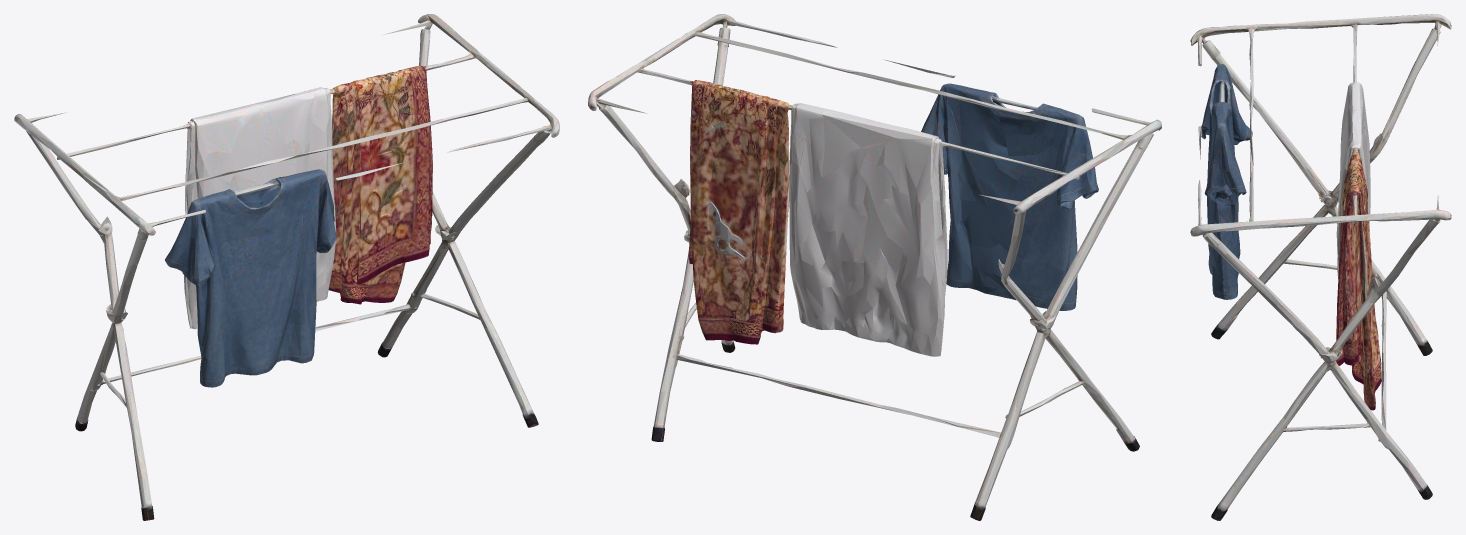
The model's file is w4clothesrack.glb.
The picture shows the model from 3 angles, left to right: view 1: azimuth 30°, elevation 25°; view 2: azimuth 150°, elevation 25°; view 3: azimuth 270°, elevation 25°; orthographic projection. The views are drawn at different scales.
Parts seen in each view (by area): view 1: output_unwrapped; view 2: output_unwrapped; view 3: output_unwrapped.
Boxes of the visible parts, x1=… form: output_unwrapped: x1=14, y1=14, x2=559, y2=520; output_unwrapped: x1=588, y1=14, x2=1161, y2=520; output_unwrapped: x1=1190, y1=14, x2=1451, y2=520.
Size of the model in its own units: 1.35 by 0.9963 by 0.7448.
1 material, 1 textured.
